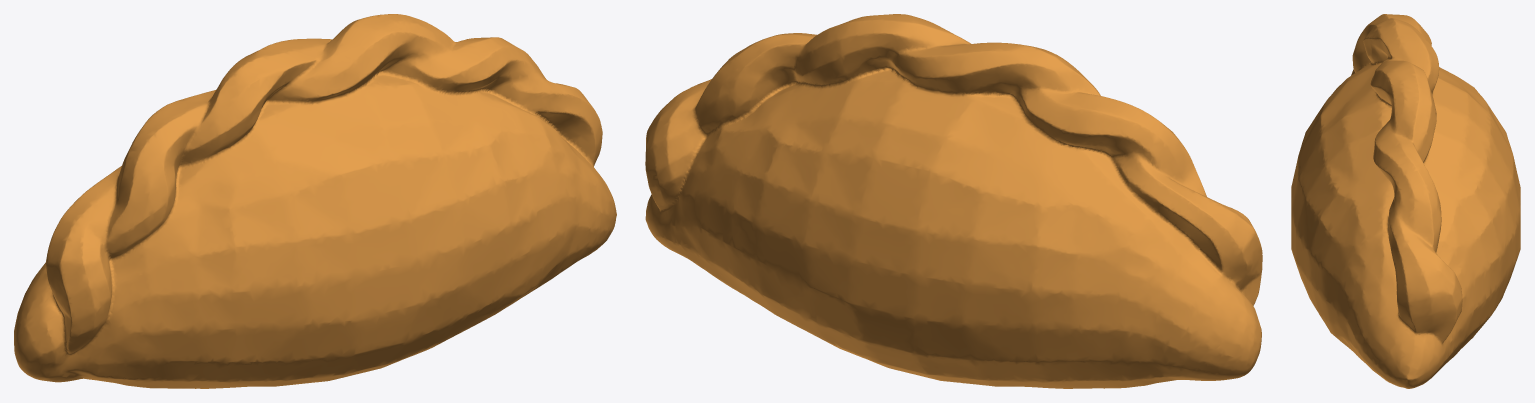
The model's file is Saltena_Whole.fbx.
3 renders of one model, left to right at view 1: azimuth 30°, elevation 25°; view 2: azimuth 150°, elevation 25°; view 3: azimuth 270°, elevation 25°, orthographic. The views are drawn at different scales.
Parts seen in each view (by area): view 1: Saltena_Whole; view 2: Saltena_Whole; view 3: Saltena_Whole.
Part boxes in pixels (<box>): Saltena_Whole: <box>14,14,616,388</box>; Saltena_Whole: <box>645,14,1262,388</box>; Saltena_Whole: <box>1291,14,1520,388</box>.
Size of the model in its own units: 145 by 75.03 by 57.86.
